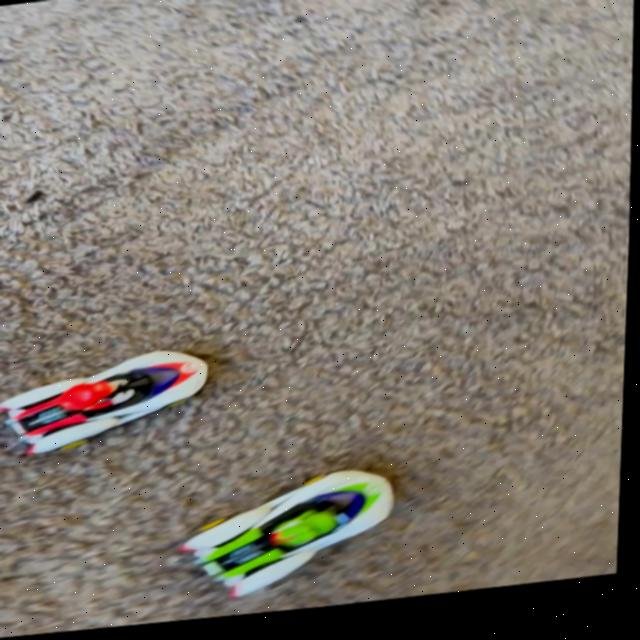mario: (0, 341, 228, 473)
yoshi: (161, 451, 423, 626)
